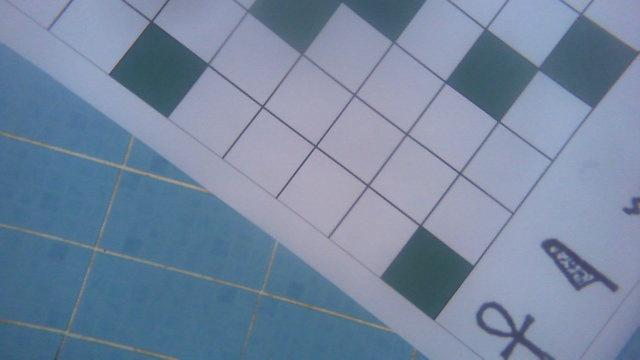Ankh: (473, 298, 568, 360)
Reed: (538, 240, 622, 298)
